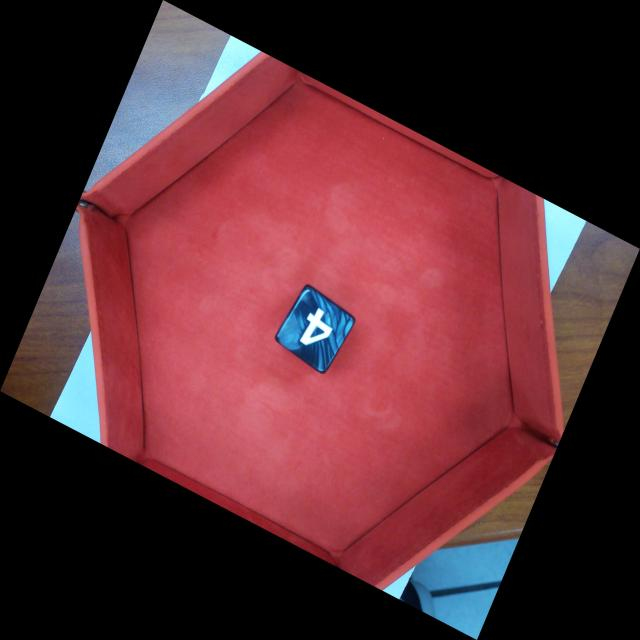dice: (276, 288, 358, 374)
